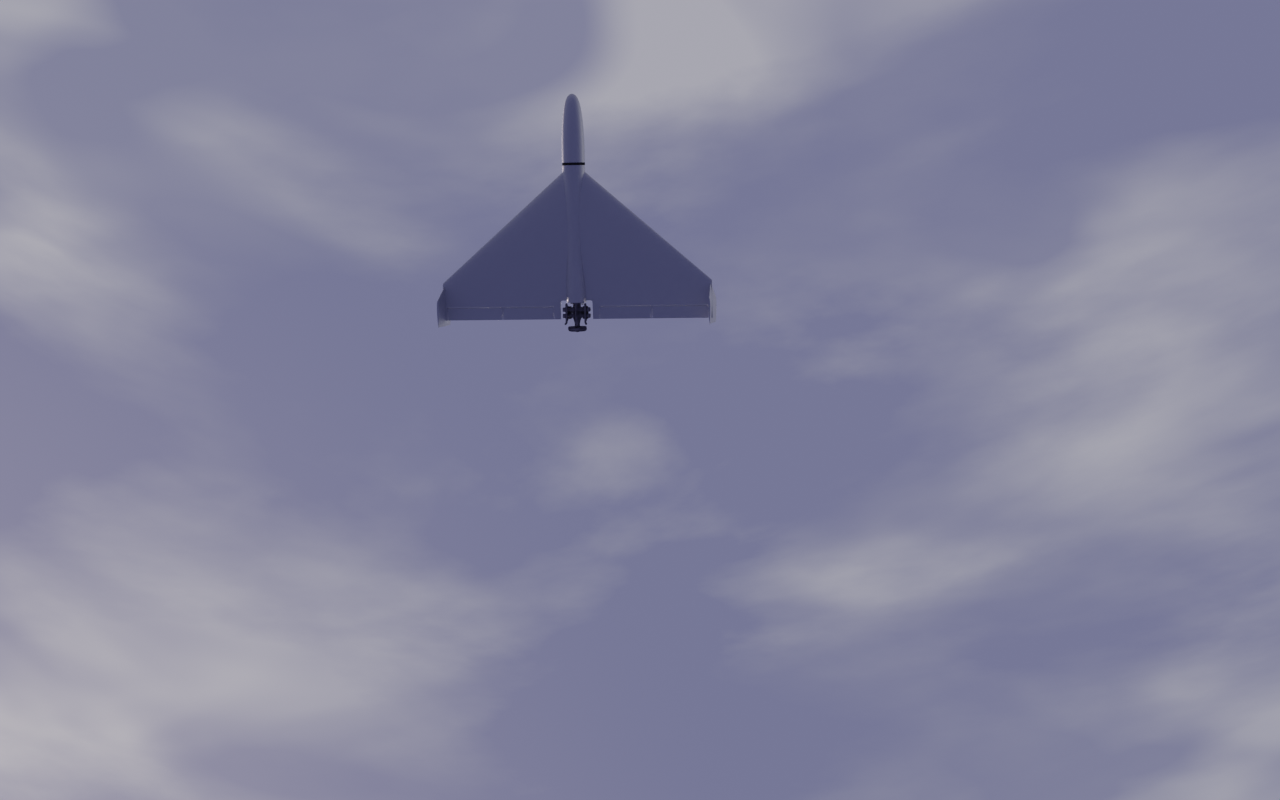shahed: (436, 94, 719, 334)
